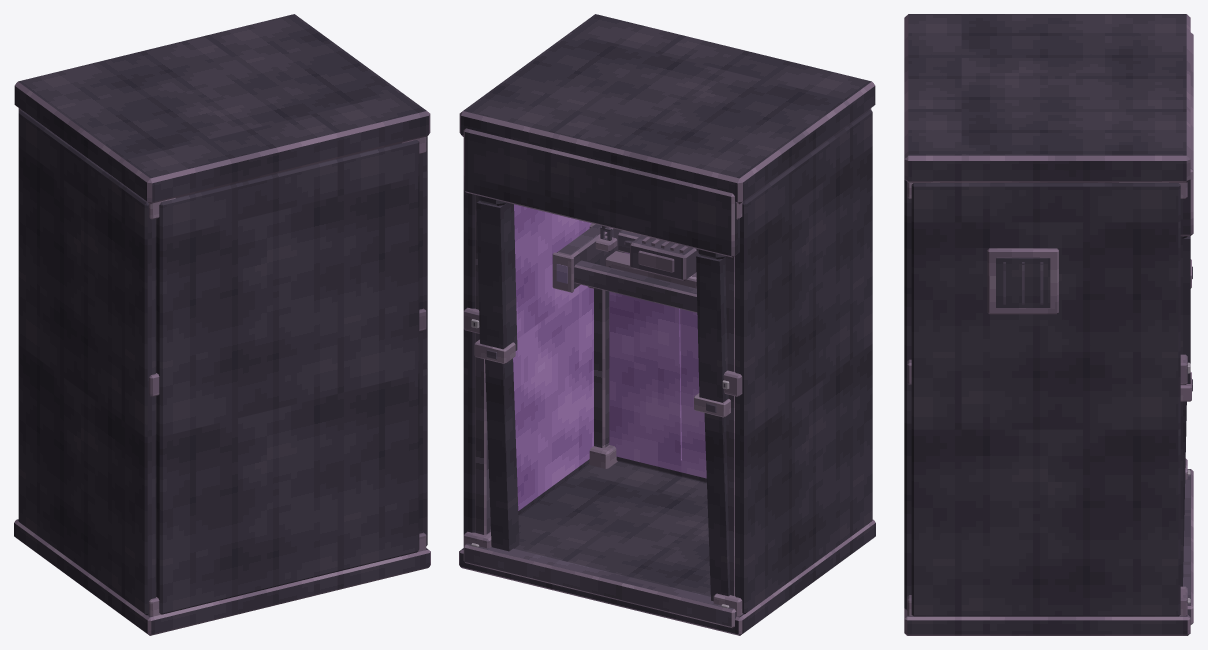
File: tent_2_body.obj
3 renders of one model, left to right at view 1: azimuth 30°, elevation 25°; view 2: azimuth 150°, elevation 25°; view 3: azimuth 270°, elevation 25°, orthographic. The views are drawn at different scales.
Parts seen in each view (by area): view 1: model; view 2: model; view 3: model.
Boxes of the visible parts, left/top/right/bottom form: model: left=14, top=14, right=430, bottom=635; model: left=459, top=14, right=875, bottom=635; model: left=904, top=14, right=1193, bottom=635.
Size of the model in its own units: 1.53 by 2.31 by 1.26.
